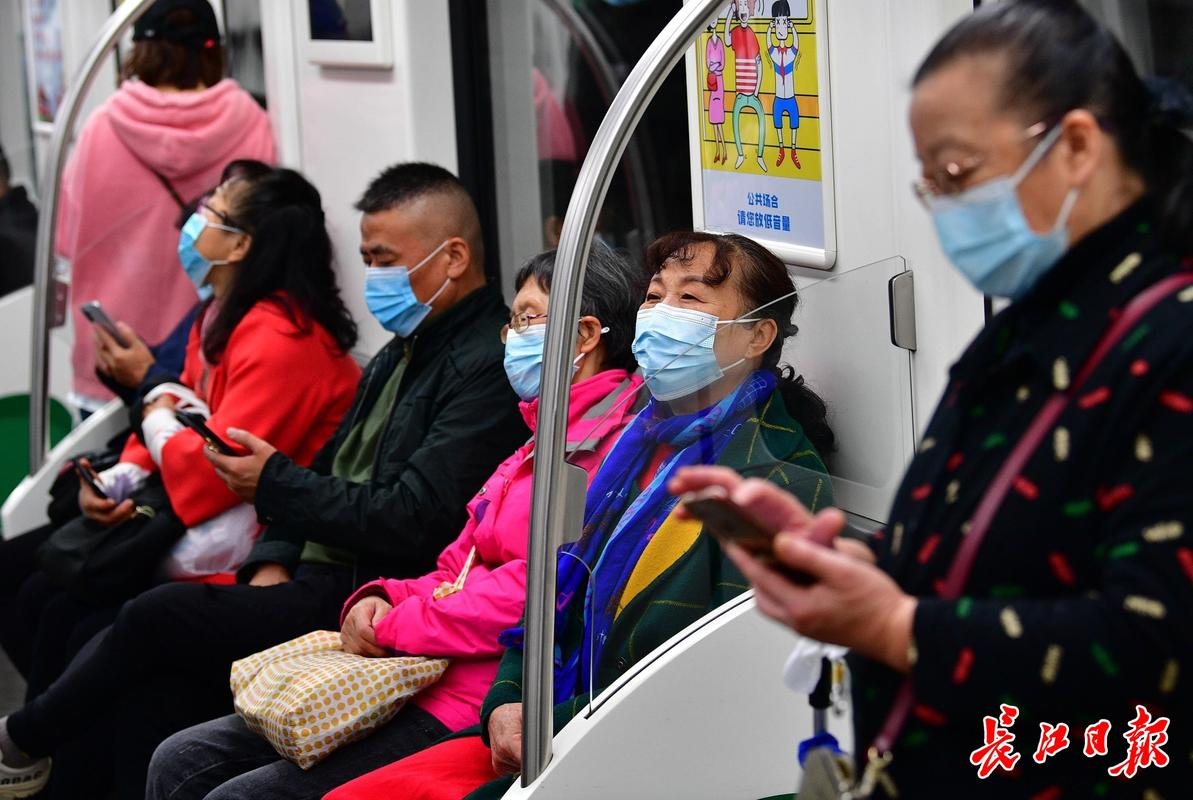mask: (905, 58, 1080, 289), (634, 242, 768, 409), (355, 186, 466, 333), (175, 163, 269, 280)
